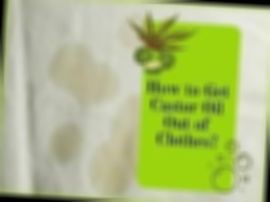oil: (37, 38, 125, 110), (91, 94, 140, 193), (48, 120, 95, 167)
